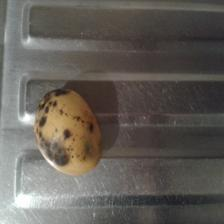Mango Semirotten: (29, 83, 107, 178)
